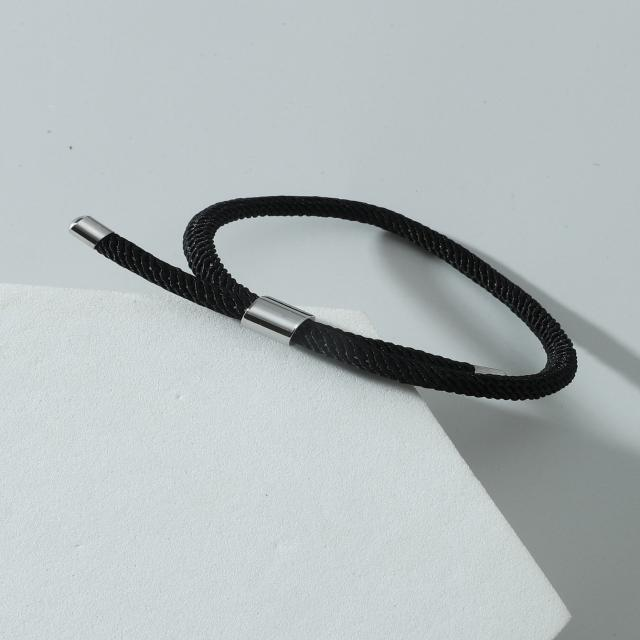bracelet: (40, 119, 627, 474)
